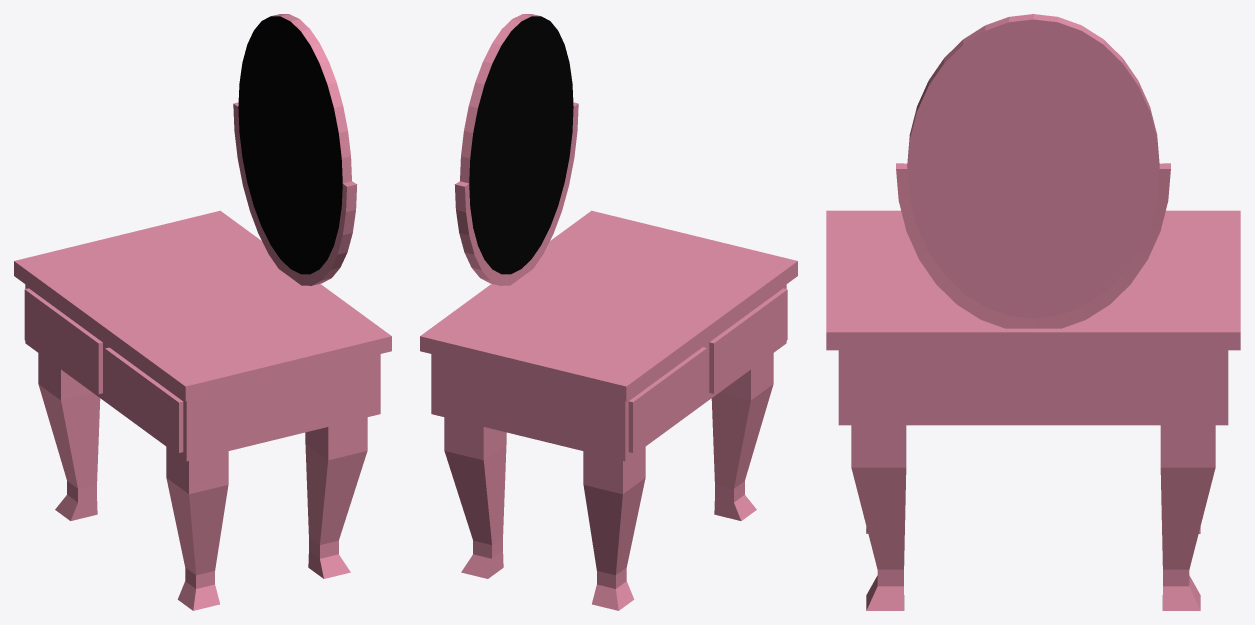
Rendered from Vanity.fbx.
3 renders of one model, left to right at view 1: azimuth 30°, elevation 25°; view 2: azimuth 150°, elevation 25°; view 3: azimuth 270°, elevation 25°, orthographic. The views are drawn at different scales.
Visible parts, largest first — view 1: Cube; view 2: Cube; view 3: Cube.
Part boxes in pixels (x1,y1,x2,y2): Cube: (14,14,391,610); Cube: (420,14,797,610); Cube: (826,14,1240,610).
Size of the model in its own units: 114 by 262 by 164.
